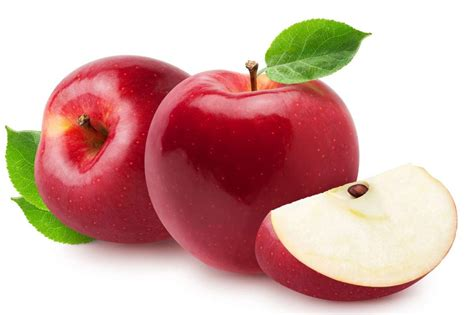apple: (141, 62, 364, 278), (30, 49, 191, 249)
